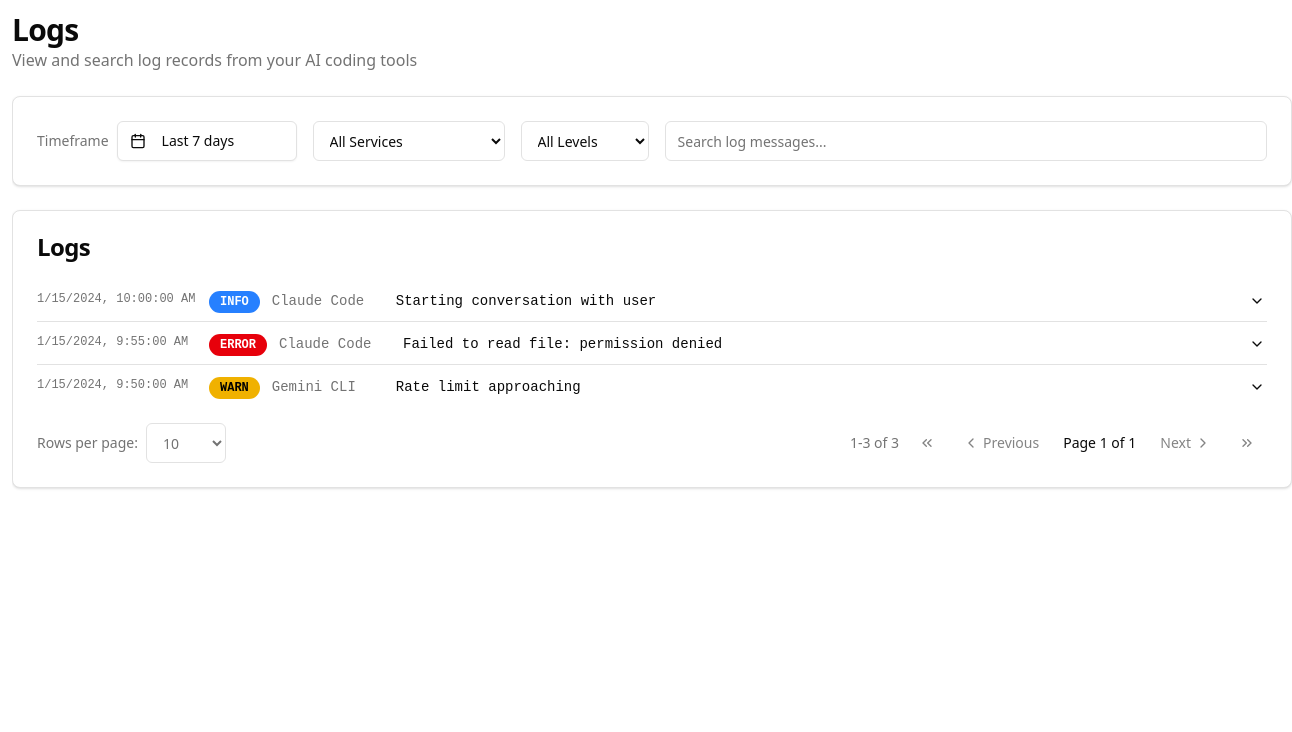
LogsPage › expands log entry when clicked
Expected: the text "Starting conversation with user" is shown, [396, 293, 656, 309]
Click the button "Starting conversation with user": (652, 302) [37, 291, 1267, 313]
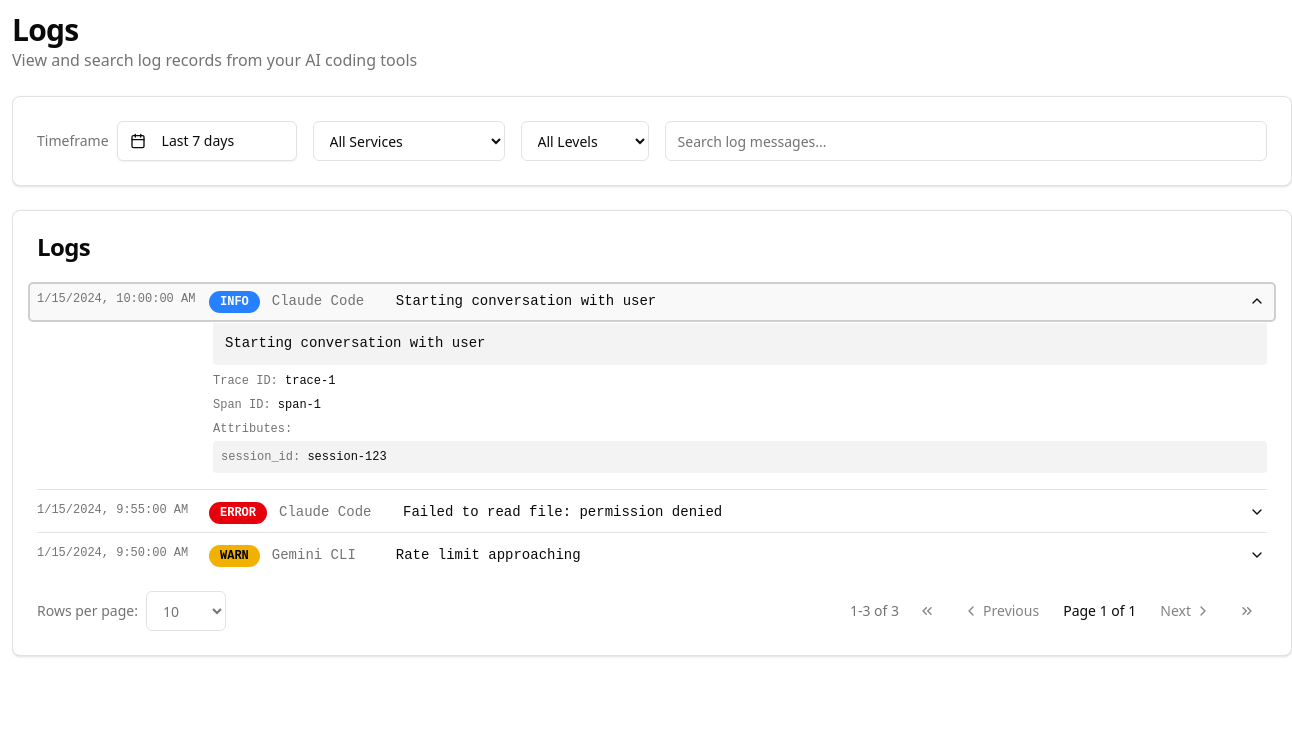
Expected: the text "Trace ID:" is shown, [213, 374, 285, 388]
